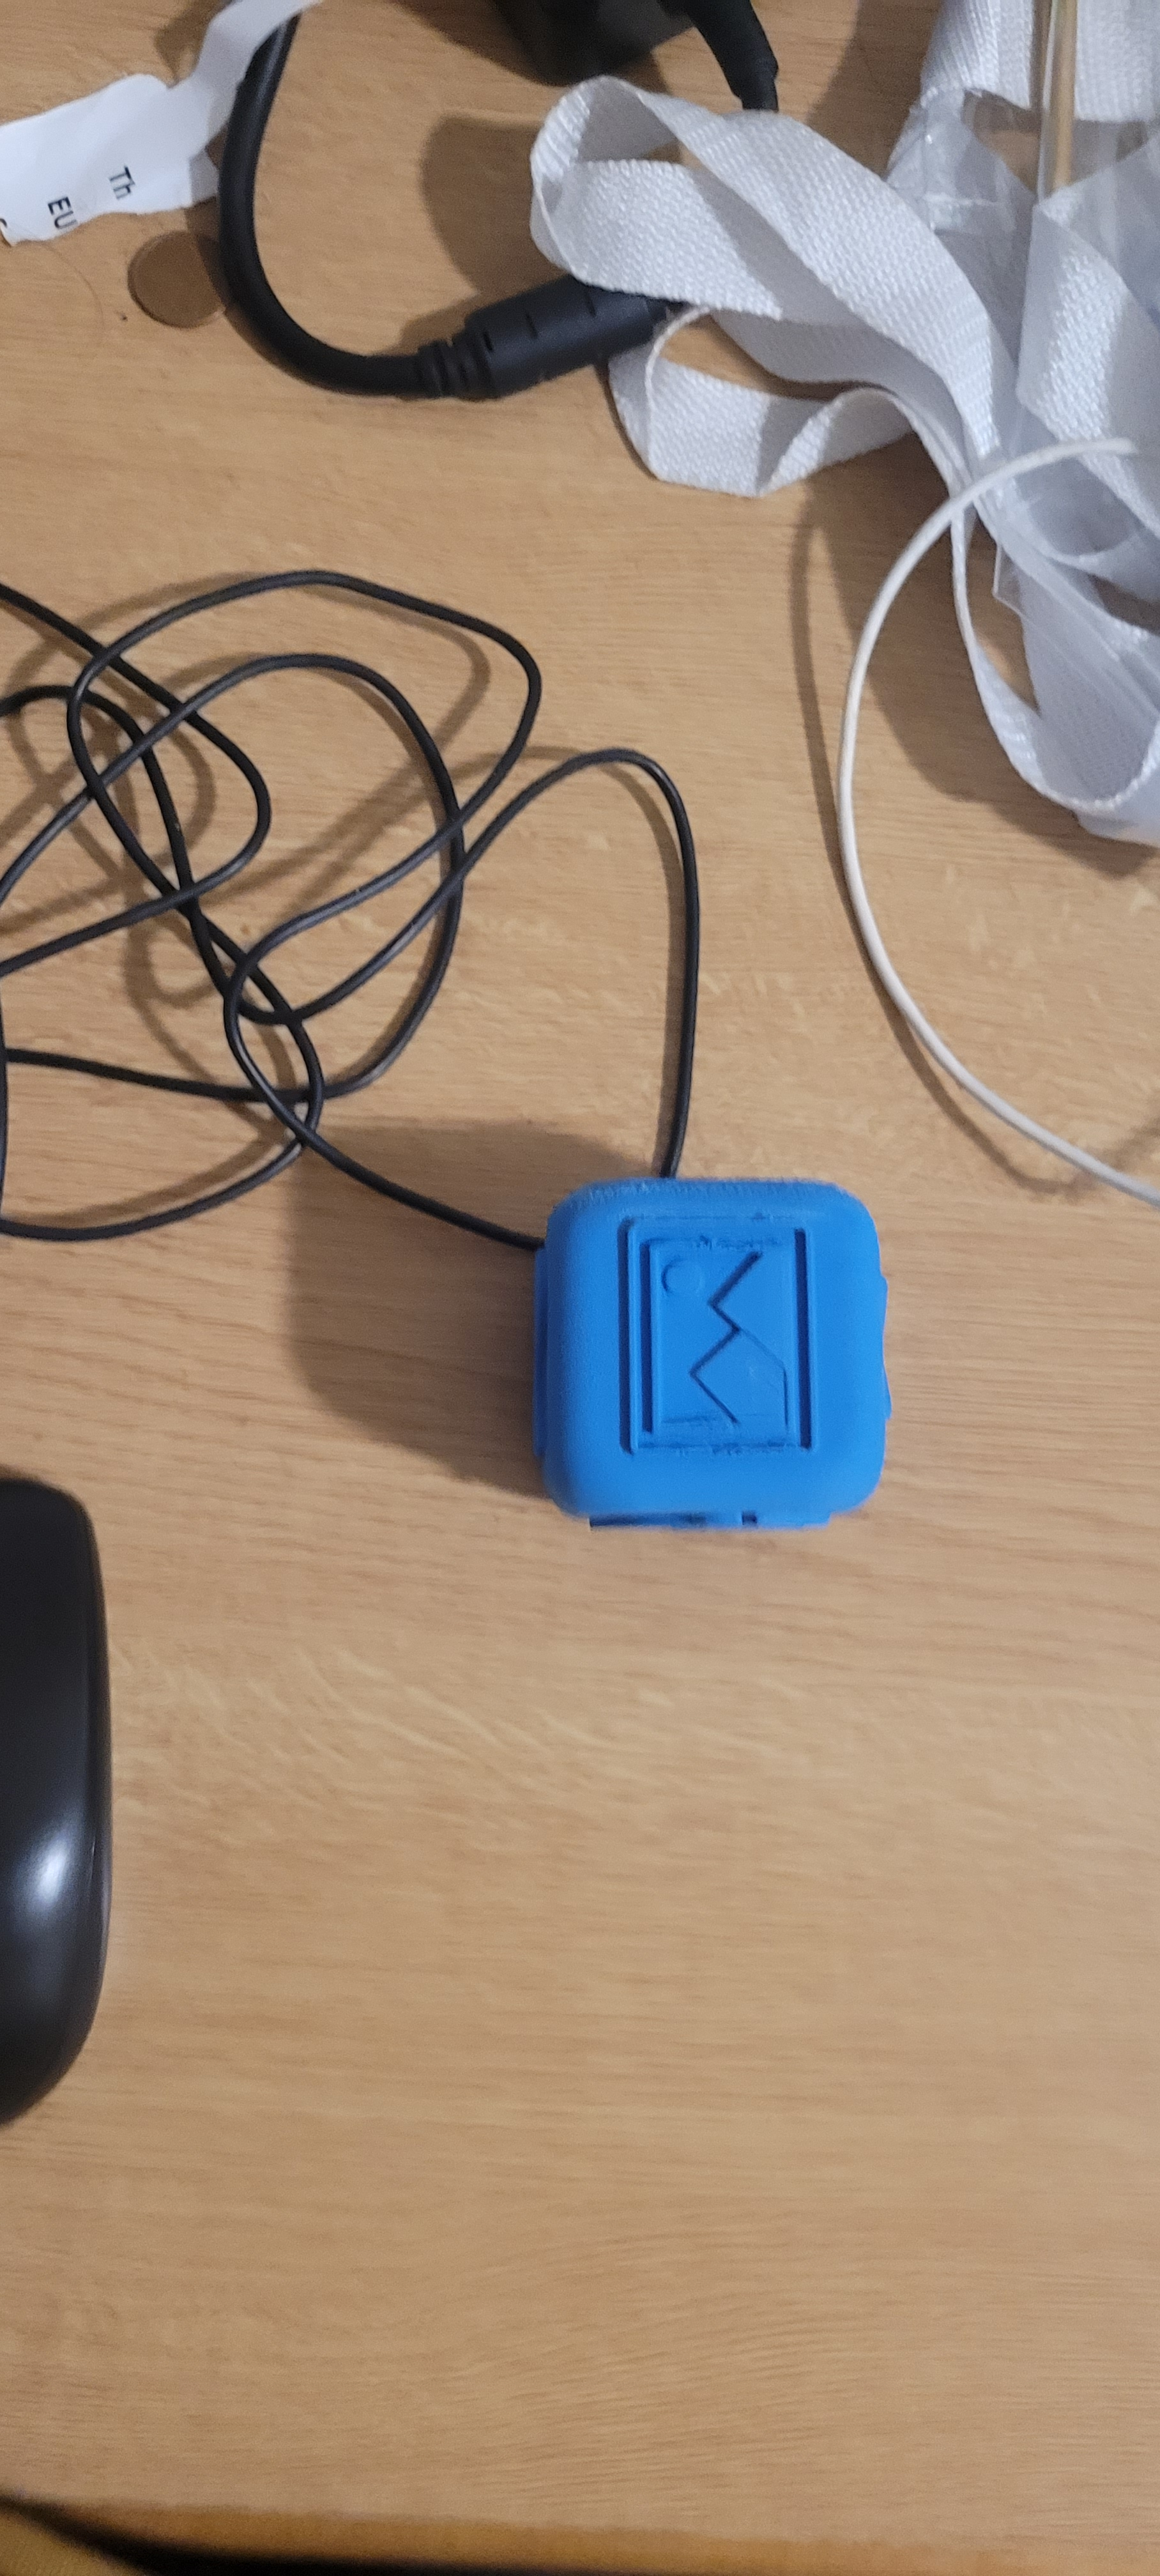Story: (595, 1222, 830, 1477)
